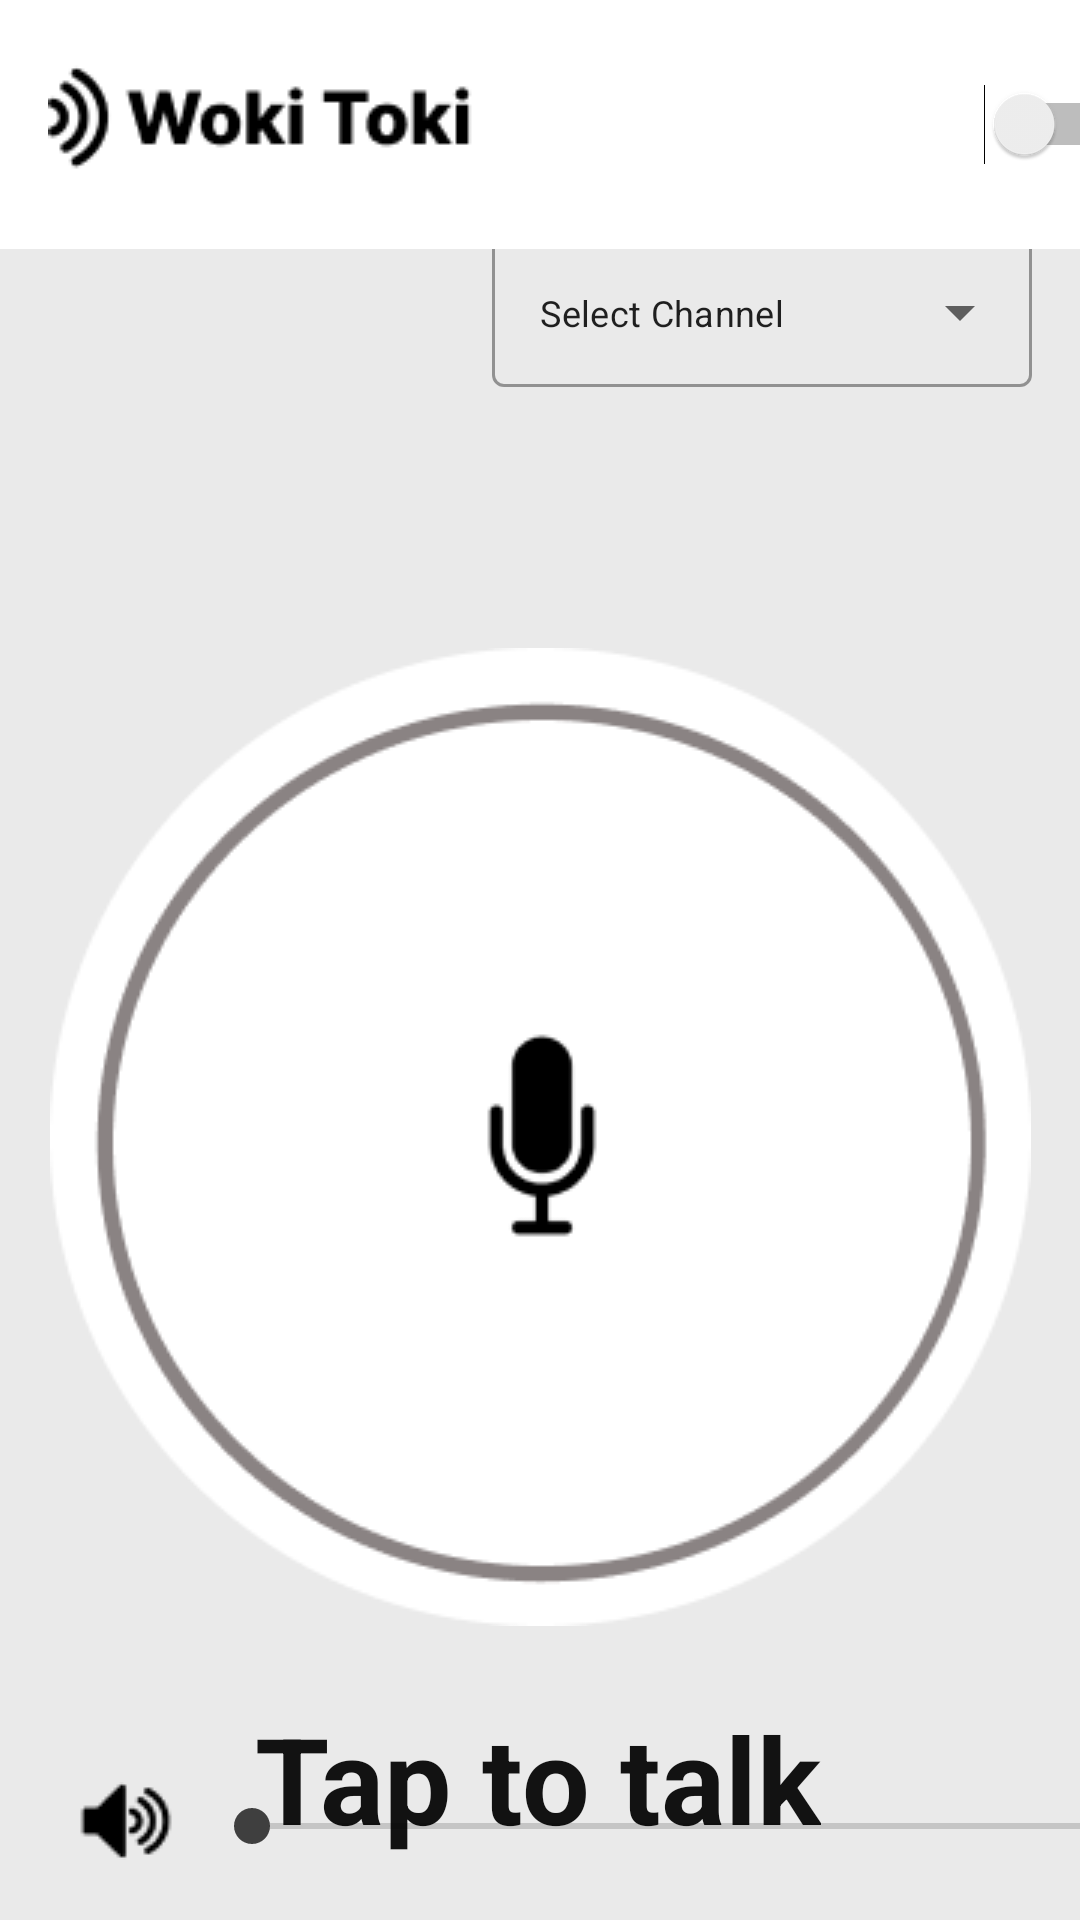

Where icons sit on this 1080px×1920px app screen, as {"x1": x1, "y1": y1, "x2": x2, "y2": y2}:
volup: {"x1": 80, "y1": 1784, "x2": 172, "y2": 1858}
